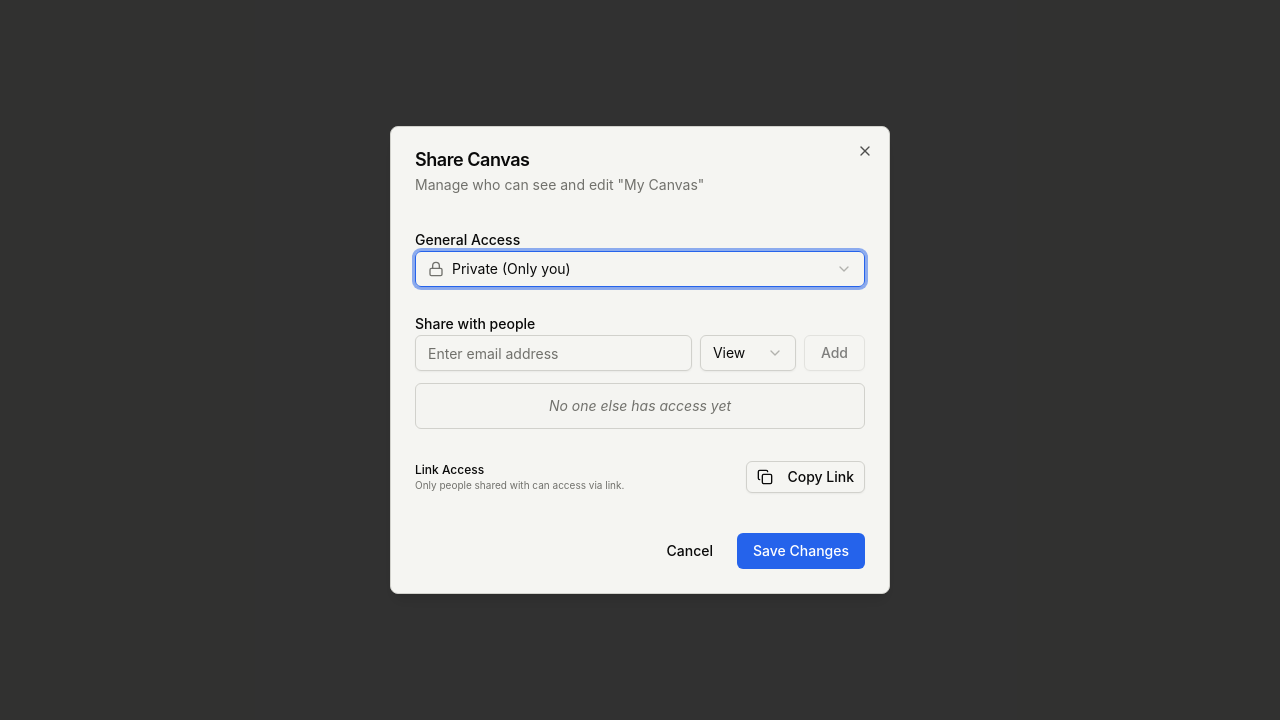
Test case: ShareDialog › adds a user to the invite list when Add is clicked
Type "alice@example.com" into the field with placeholder "Enter email address". click: (553, 353)
box: [415,335,692,371]
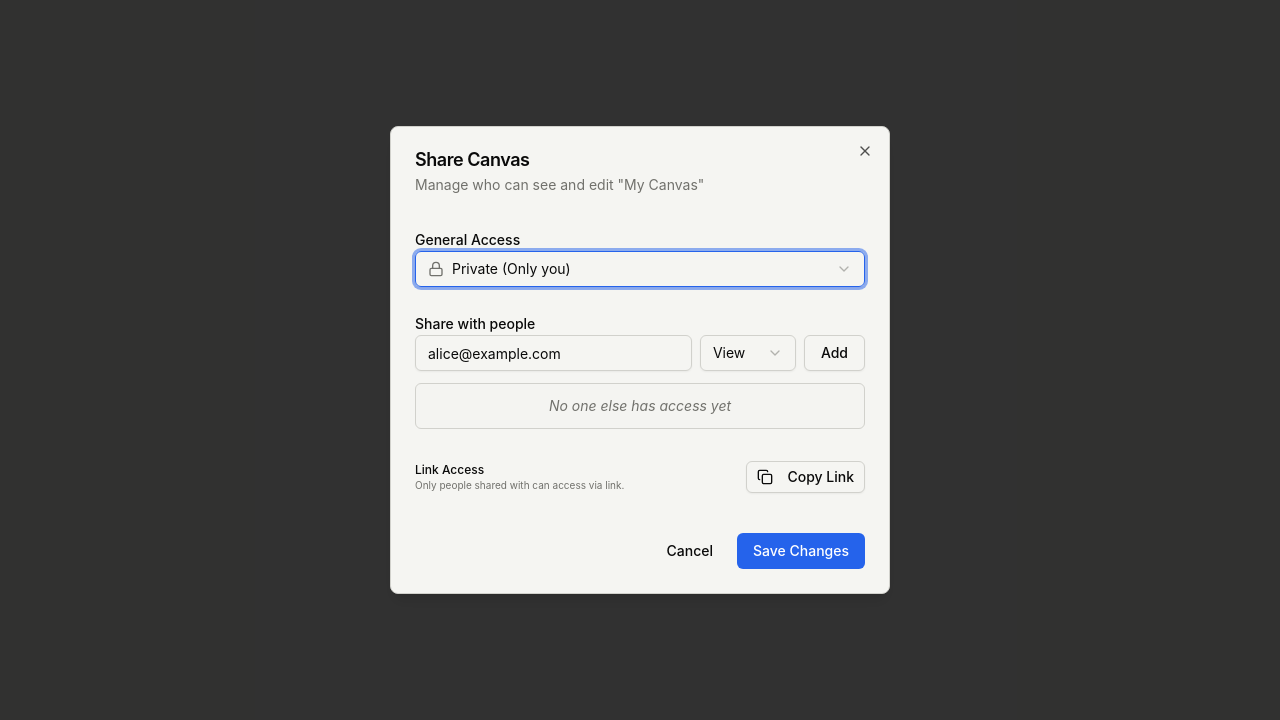
Click the button "Add". click: (834, 353)
box: [804,335,865,371]
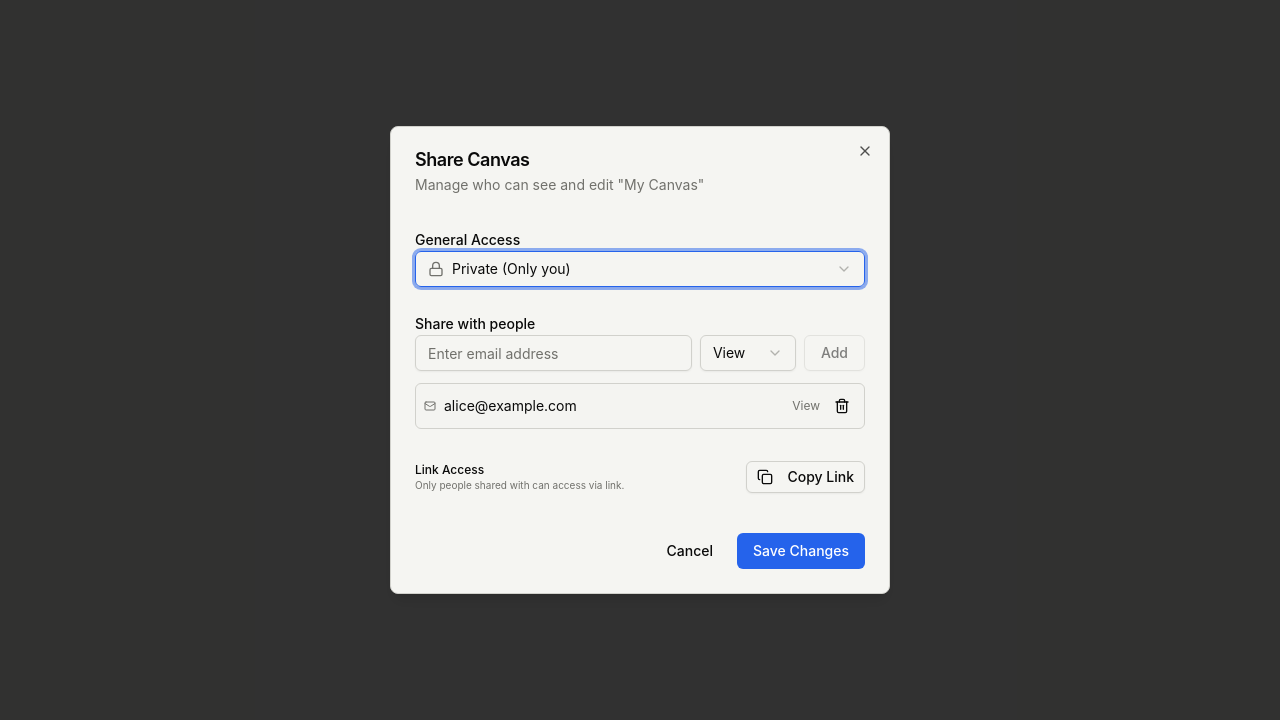
Expected: the text "alice@example.com" is shown, [444,396,577,416]
